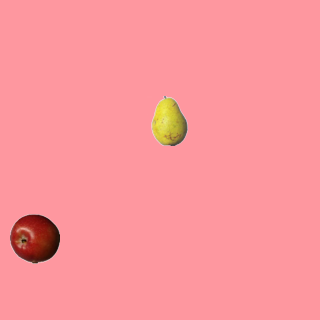Apple Braeburn: (9, 213, 59, 263)
Pear Monster: (144, 95, 194, 145)
